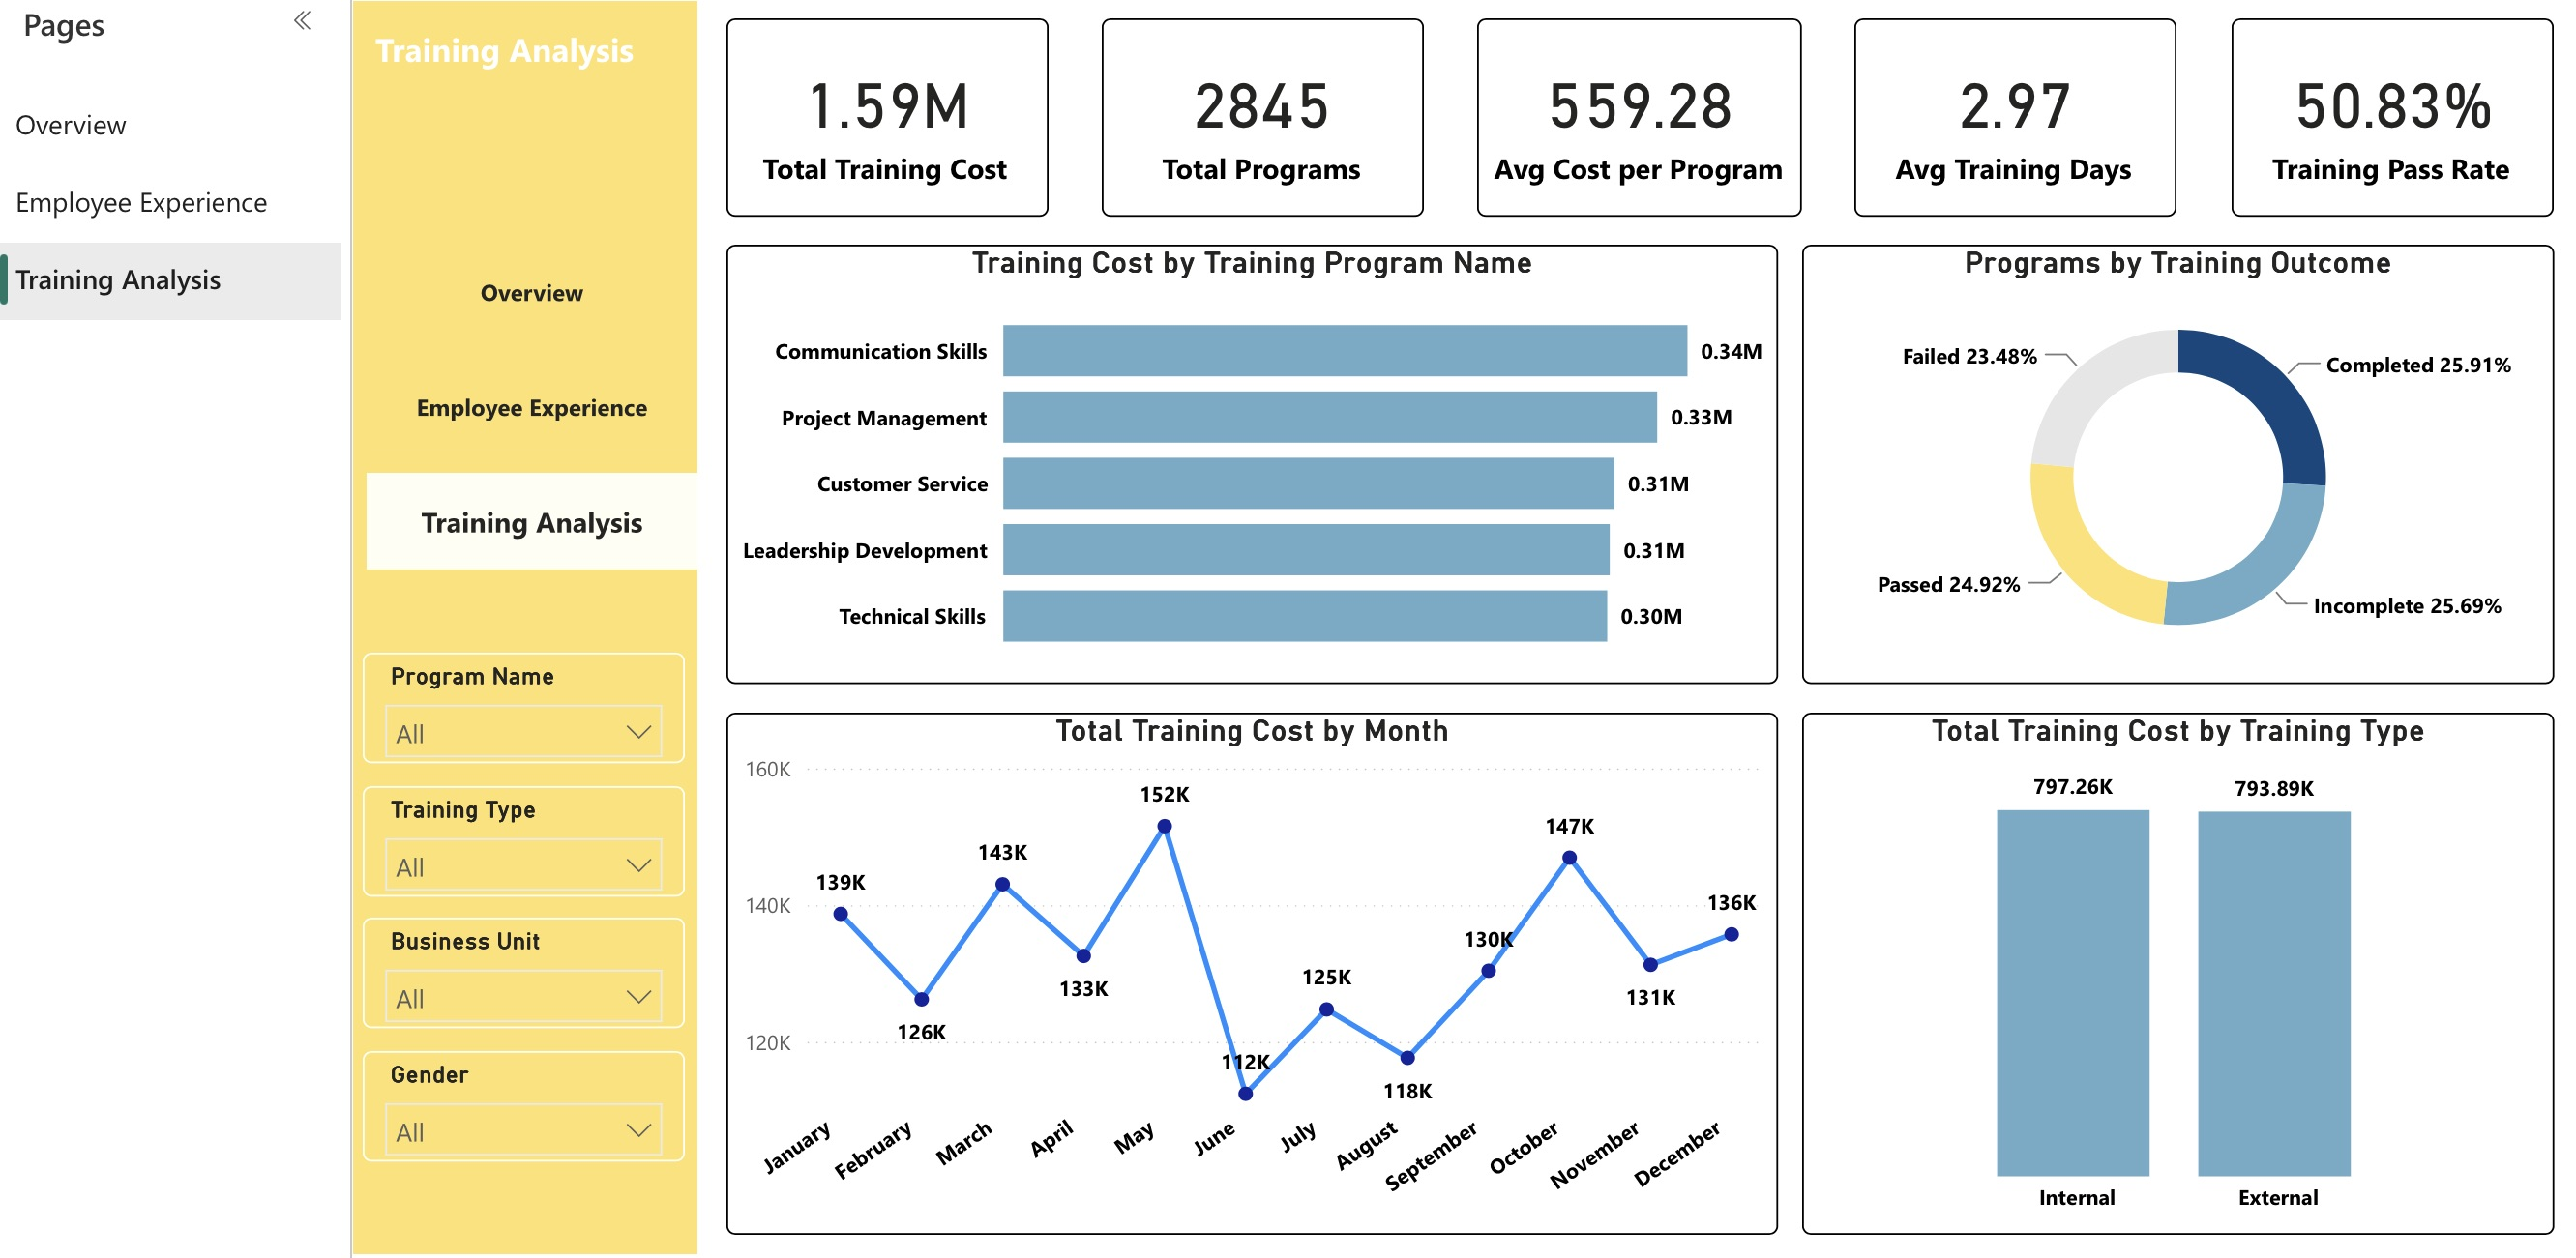

The page's visual inventory and layout, read from the dashboard file:
{"tool":"powerbi","page":{"name":"Training Analysis","canvas":[1280,720],"ordinal":2},"visuals":[{"type":"shape","box":[0,0,198.1,720],"z":0},{"type":"slicer","fields":{"Values":["Cleaned_HR_Data_Analysis.Training Program Name"]},"box":[5.8,374.5,185.1,63.6],"z":1000},{"type":"slicer","fields":{"Values":["Cleaned_HR_Data_Analysis.Training Type"]},"box":[5.8,450.6,185.1,63.6],"z":2000},{"type":"slicer","fields":{"Values":["Cleaned_HR_Data_Analysis.BusinessUnit"]},"box":[5.8,526.7,185.1,63.6],"z":3000},{"type":"slicer","fields":{"Values":["Cleaned_HR_Data_Analysis.GenderCode"]},"box":[5.8,602.9,185.1,63.6],"z":4000},{"type":"textbox","box":[7.2,10.1,185.1,50.6],"z":5000},{"type":"pageNavigator","box":[7.2,138.8,190.8,190.8],"z":6000},{"type":"card","fields":{"Values":["Measure 2 Table.Total Training Cost"]},"box":[214,10.1,185.1,114.2],"z":7000},{"type":"card","fields":{"Values":["Measure 2 Table.Total Programs"]},"box":[429.8,10.1,185.1,114.2],"z":8000},{"type":"card","fields":{"Values":["Measure 2 Table.Avg Cost per Program"]},"box":[645.5,10.1,186.5,114.2],"z":9000},{"type":"card","fields":{"Values":["Measure 2 Table.Avg Training Days"]},"box":[862.8,10.1,185.1,114.2],"z":10000},{"type":"card","fields":{"Values":["Measure 2 Table.Training Pass Rate"]},"box":[1078.6,10.1,185.1,114.2],"z":11000},{"type":"clusteredBarChart","title":"Training Cost by Training Program Name","fields":{"Category":["Cleaned_HR_Data_Analysis.Training Program Name"],"Y":["Measure 2 Table.Total Training Cost"]},"box":[214.5,139.6,603.9,252.7],"z":12000},{"type":"donutChart","title":"Programs by Training Outcome","fields":{"Category":["Cleaned_HR_Data_Analysis.Training Outcome"],"Y":["Measure 2 Table.Total Programs"]},"box":[831.7,139.6,432,252.7],"z":13000},{"type":"clusteredColumnChart","fields":{"Category":["Cleaned_HR_Data_Analysis.Training Type"],"Y":["Measure 2 Table.Total Training Cost"]},"box":[831.7,408.5,432,299.8],"z":14000},{"type":"lineChart","fields":{"Category":["Cleaned_HR_Data_Analysis.Training Date.Variation.Date Hierarchy.Month"],"Y":["Measure 2 Table.Total Training Cost"]},"box":[214.5,408.5,603.9,299.8],"z":15000}]}

Visuals, with their boxes on the page's 1280x720 design canvas (x1, y1, x2, y2). These are canvas units, not pixel positions in the 2576x1258 screenshot, which may show the page scaled, cropped or inside an application window:
shape: <box>0,0,198,720</box>
slicer - Cleaned_HR_Data_Analysis.Training Program Name: <box>6,374,191,438</box>
slicer - Cleaned_HR_Data_Analysis.Training Type: <box>6,451,191,514</box>
slicer - Cleaned_HR_Data_Analysis.BusinessUnit: <box>6,527,191,590</box>
slicer - Cleaned_HR_Data_Analysis.GenderCode: <box>6,603,191,666</box>
textbox: <box>7,10,192,61</box>
pageNavigator: <box>7,139,198,330</box>
card - Measure 2 Table.Total Training Cost: <box>214,10,399,124</box>
card - Measure 2 Table.Total Programs: <box>430,10,615,124</box>
card - Measure 2 Table.Avg Cost per Program: <box>646,10,832,124</box>
card - Measure 2 Table.Avg Training Days: <box>863,10,1048,124</box>
card - Measure 2 Table.Training Pass Rate: <box>1079,10,1264,124</box>
"Training Cost by Training Program Name" clusteredBarChart: <box>214,140,818,392</box>
"Programs by Training Outcome" donutChart: <box>832,140,1264,392</box>
clusteredColumnChart - Cleaned_HR_Data_Analysis.Training Type x Measure 2 Table.Total Training Cost: <box>832,408,1264,708</box>
lineChart - Cleaned_HR_Data_Analysis.Training Date.Variation.Date Hierarchy.Month x Measure 2 Table.Total Training Cost: <box>214,408,818,708</box>
